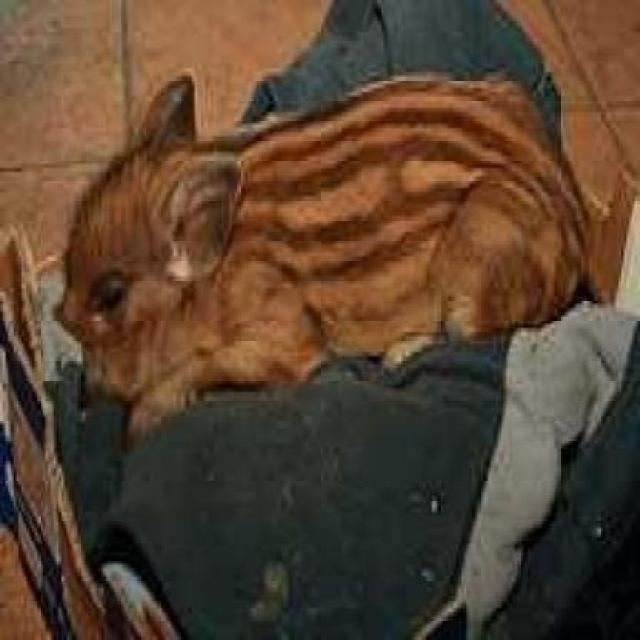pig: (19, 94, 638, 470)
